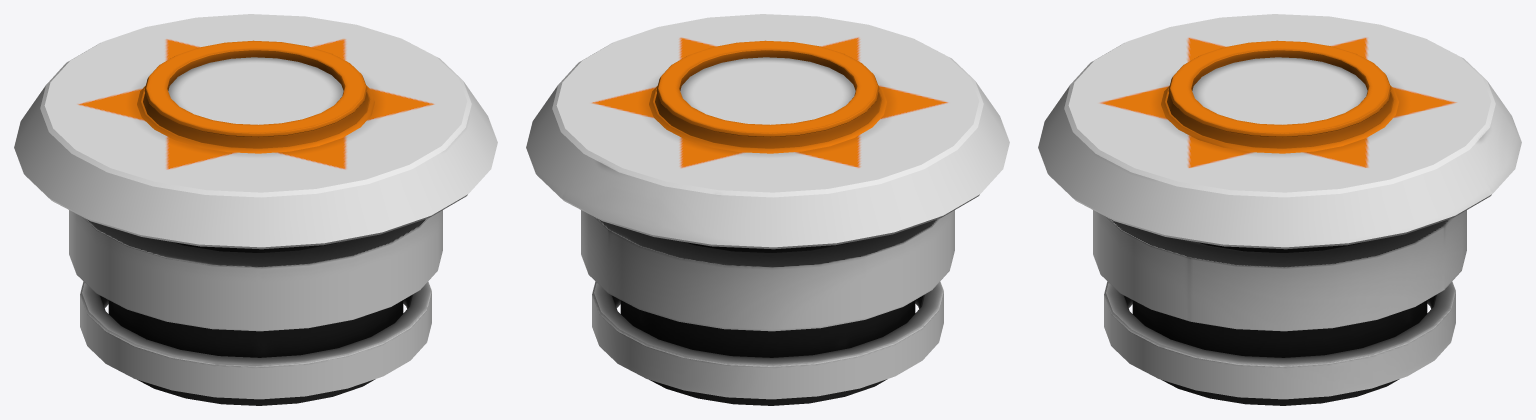
Rendered from bumper_big.fbx.
3 renders of one model, left to right at view 1: azimuth 30°, elevation 25°; view 2: azimuth 150°, elevation 25°; view 3: azimuth 270°, elevation 25°, orthographic.
Visible parts, largest first — view 1: bumper_big; view 2: bumper_big; view 3: bumper_big.
Part boxes in pixels (x1=…): bumper_big: x1=14, y1=14, x2=497, y2=405; bumper_big: x1=526, y1=14, x2=1009, y2=405; bumper_big: x1=1038, y1=14, x2=1521, y2=405.
Size of the model in its own units: 340 by 199 by 340.
Materials: 1 (1 with a texture image).
